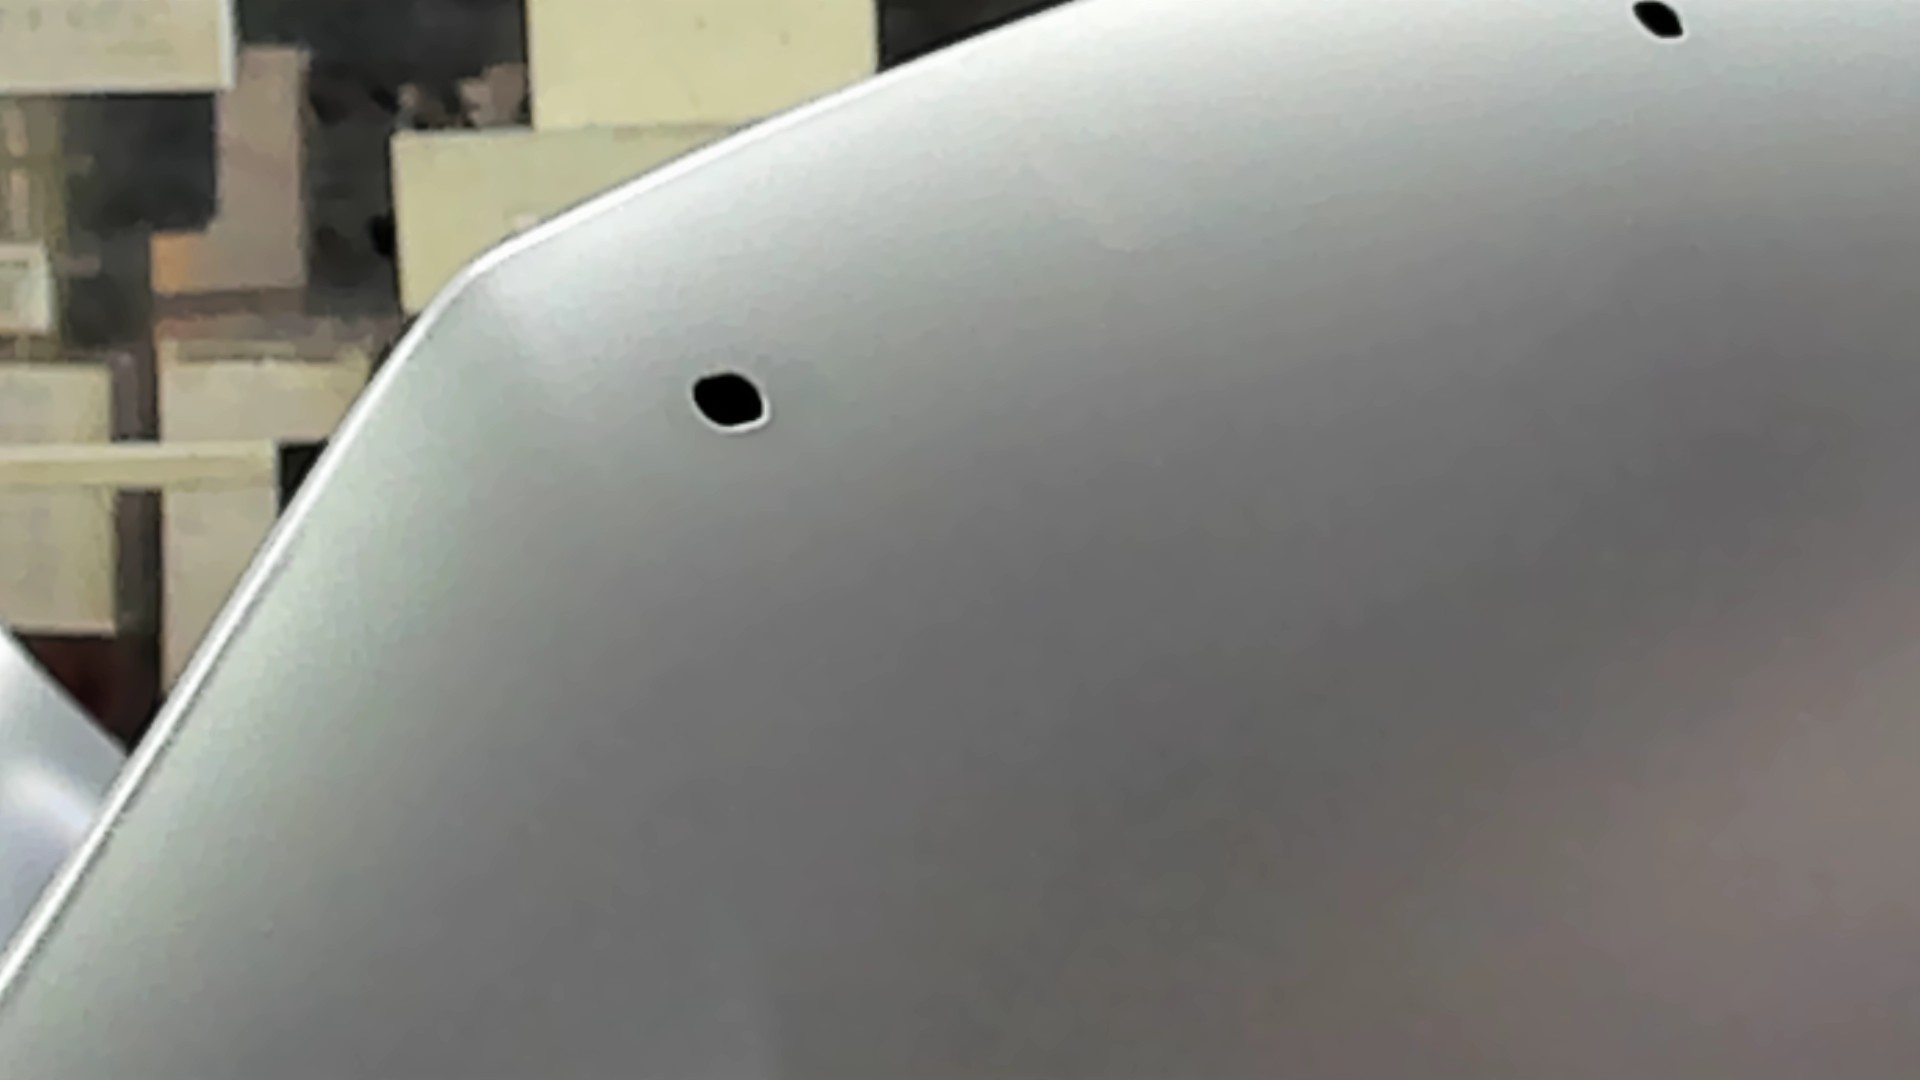amorfo: (683, 368, 779, 436), (1625, 1, 1691, 47)
capo: (855, 127, 1920, 1080)
